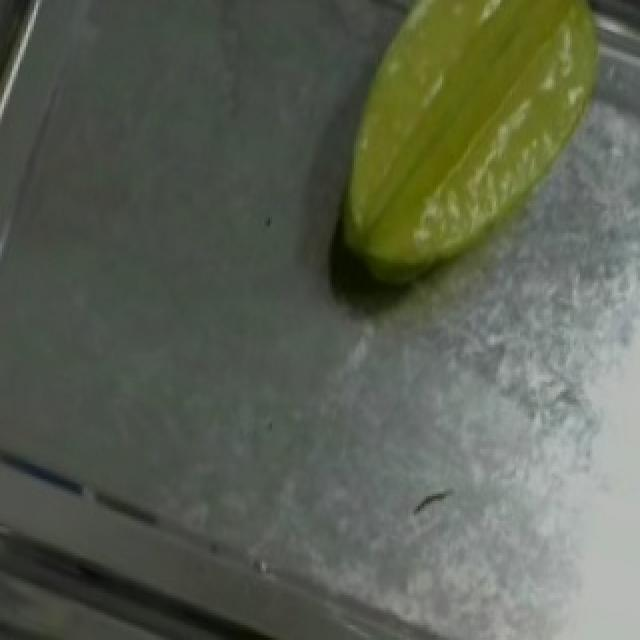fruit: (314, 0, 636, 300)
